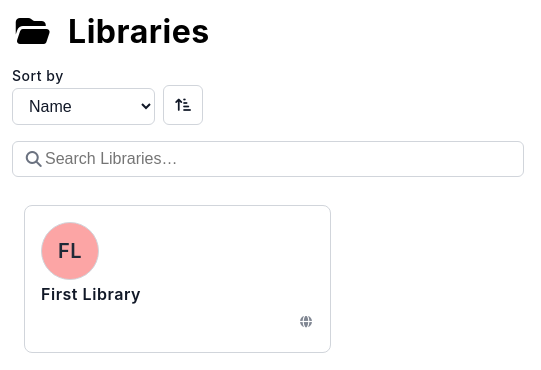
LibraryView › debounces search and resets the list
The image size is (541, 370).
Type "query" into the search field with placeholder "Search Libraries…" at (268, 159), box [12, 141, 524, 177]
Wait 300 ms
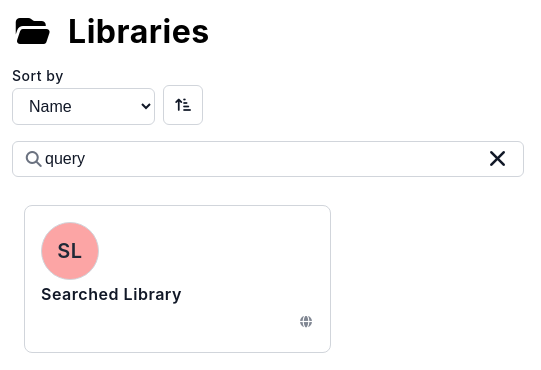
expect the text "Searched Library" is shown: met, box [41, 284, 182, 304]
expect the text "First Library" is gone: met
